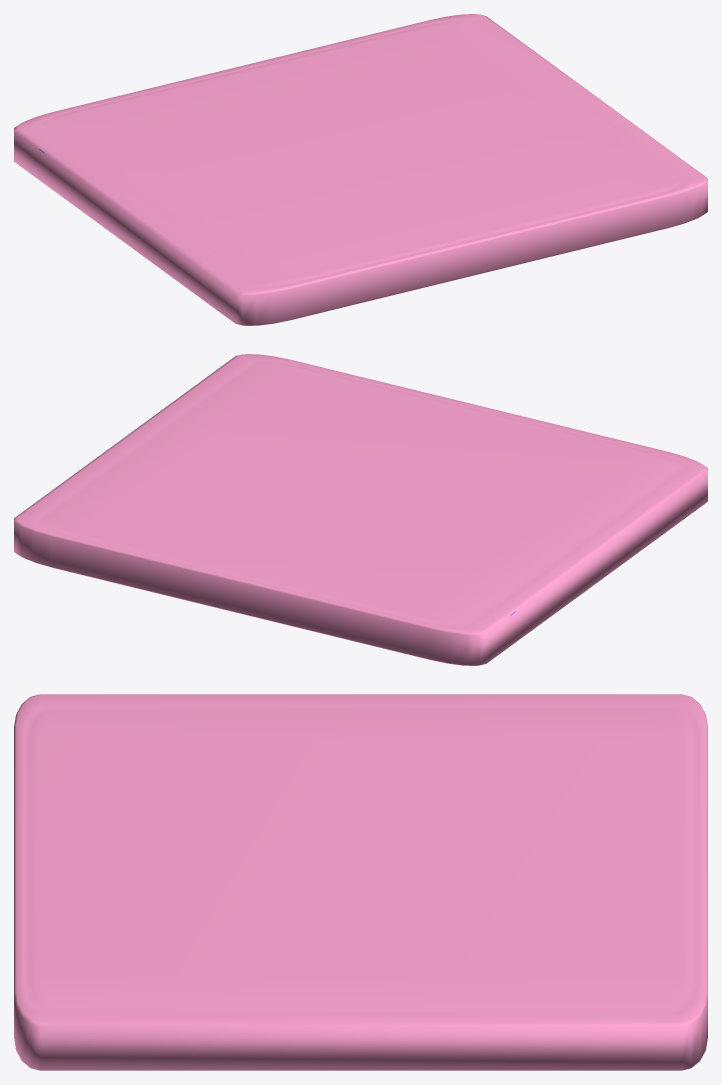
The picture shows the model from 3 angles, top to bottom: view 1: azimuth 30°, elevation 25°; view 2: azimuth 150°, elevation 25°; view 3: azimuth 270°, elevation 25°; orthographic projection. The views are drawn at different scales.
Parts seen in each view (by area): view 1: Colchon; view 2: Colchon; view 3: Colchon.
Boxes of the visible parts, x1,y1,x2,y2 form: Colchon: (14, 14, 707, 325); Colchon: (14, 354, 707, 665); Colchon: (14, 694, 707, 1070).
Bounding box in the file's own units: 530 × 36.01 × 467.
